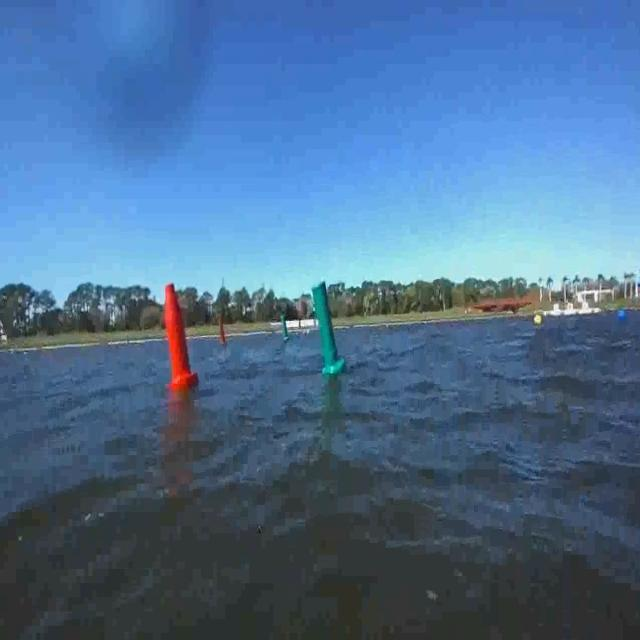blue-buoy: (618, 308, 629, 326)
green-column-buoy: (309, 282, 346, 376), (281, 312, 291, 340)
red-column-buoy: (160, 282, 198, 392), (217, 317, 228, 346)
yellow-buoy: (533, 312, 543, 328)
